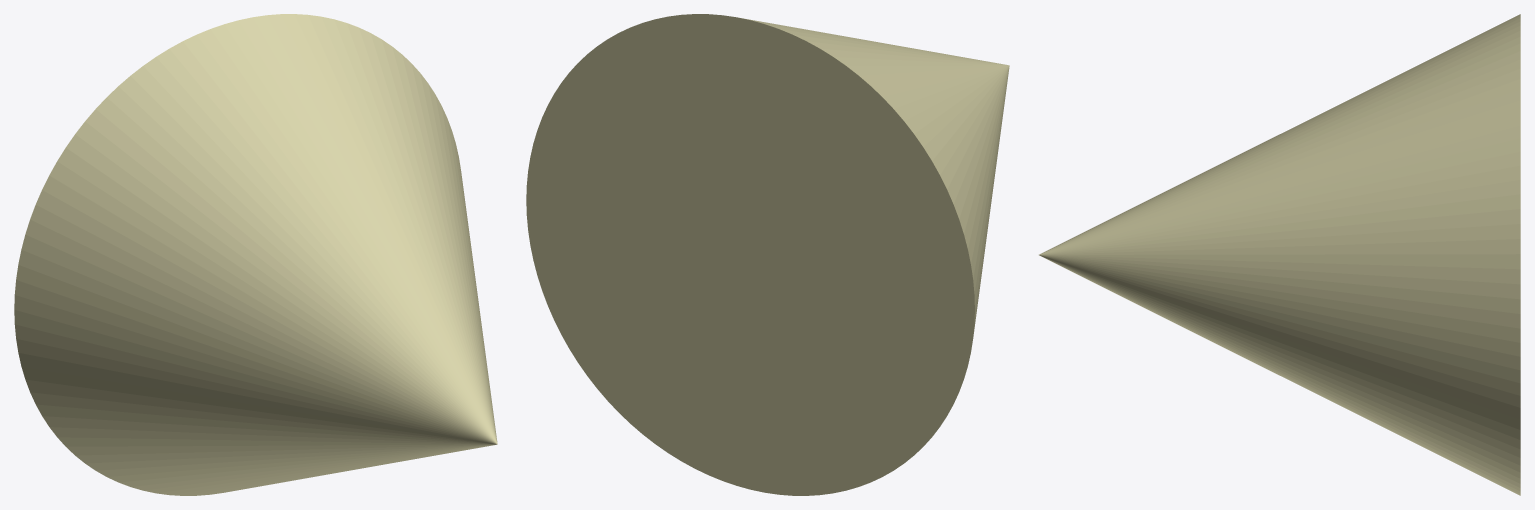
3 renders of one model, left to right at view 1: azimuth 30°, elevation 25°; view 2: azimuth 150°, elevation 25°; view 3: azimuth 270°, elevation 25°, orthographic. The views are drawn at different scales.
Visible parts, largest first — view 1: geometry_0; view 2: geometry_0; view 3: geometry_0.
Boxes of the visible parts, <box> form: geometry_0: <box>14,14,497,495</box>; geometry_0: <box>526,14,1009,495</box>; geometry_0: <box>1039,14,1520,495</box>.
Bounding box in the file's own units: 10 × 10 × 10.
